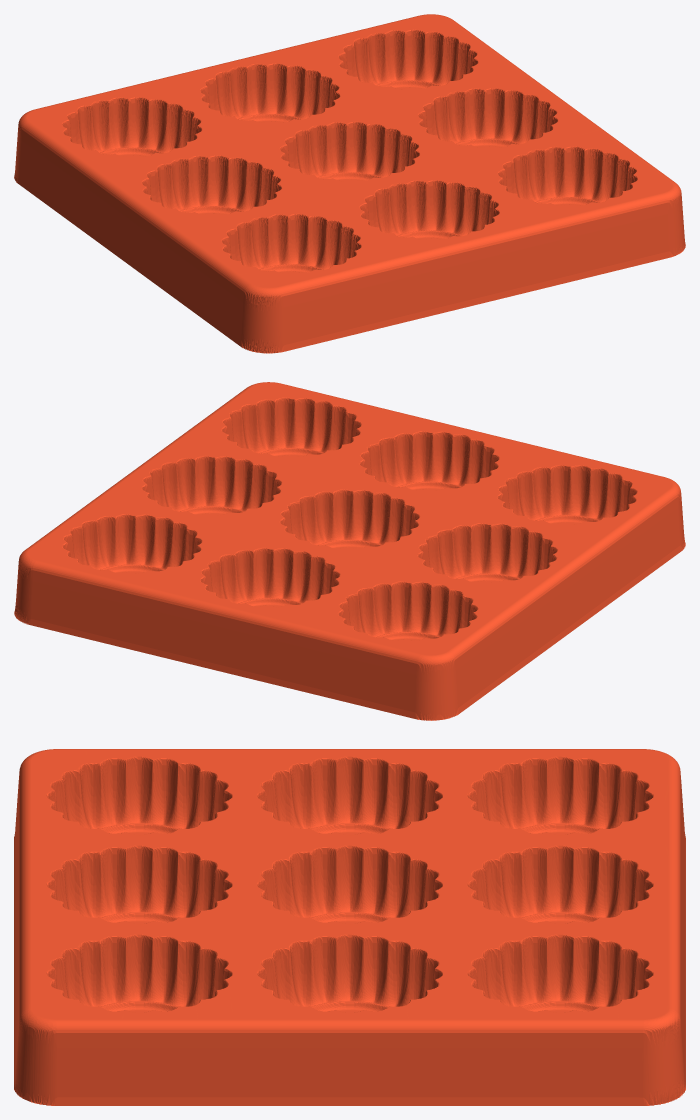
File: mold.glb
3 renders of one model, top to bottom at view 1: azimuth 30°, elevation 25°; view 2: azimuth 150°, elevation 25°; view 3: azimuth 270°, elevation 25°, orthographic. The views are drawn at different scales.
Parts seen in each view (by area): view 1: geometry_0; view 2: geometry_0; view 3: geometry_0.
Boxes of the visible parts, bbox=[...] form: geometry_0: bbox=[14, 14, 685, 353]; geometry_0: bbox=[14, 382, 685, 720]; geometry_0: bbox=[14, 749, 685, 1105].
Bounding box in the file's own units: 0.1402 × 0.0182 × 0.1402.
